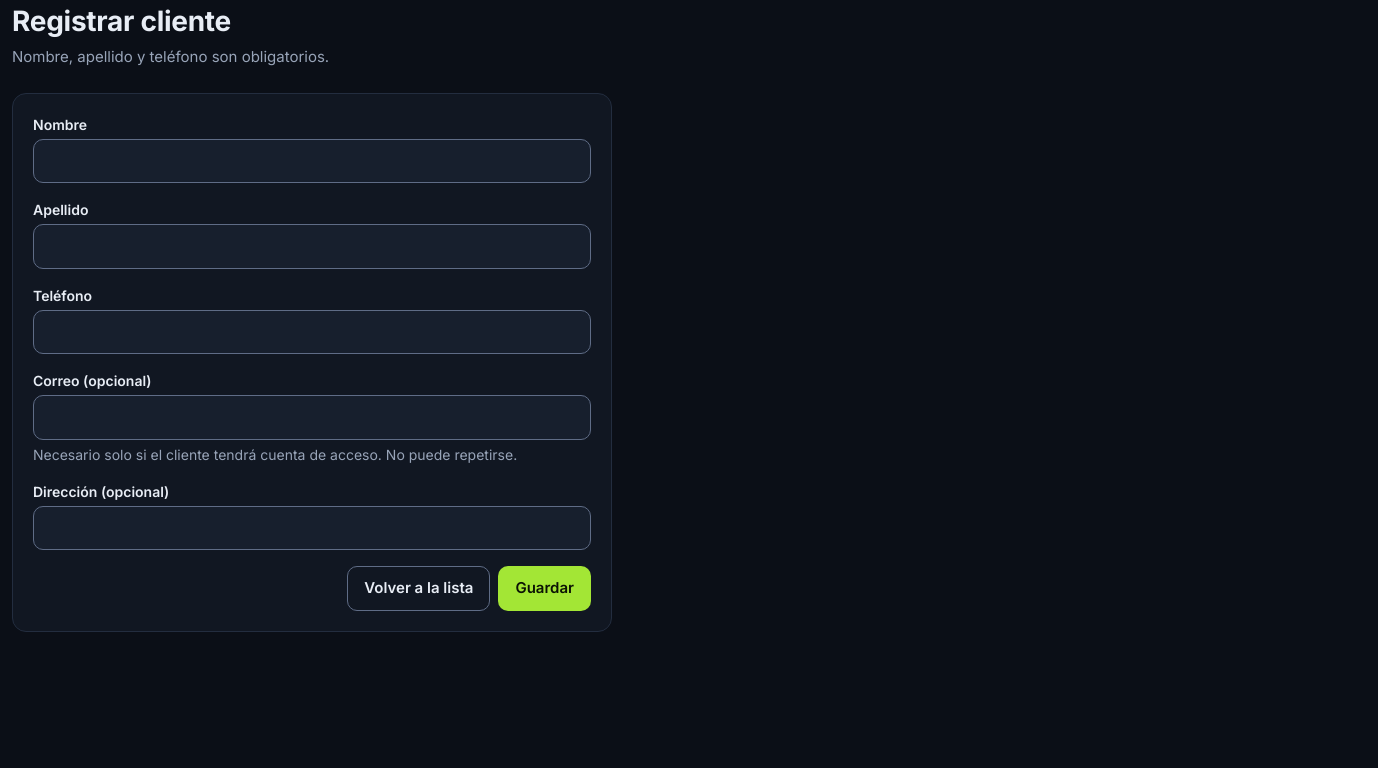
ClienteForm › al registrar envía solo los datos capturados, avisa el éxito y limpia el formulario
Type "Clara" into the field labelled "Nombre" at (312, 161), box left=33, top=138, right=591, bottom=183
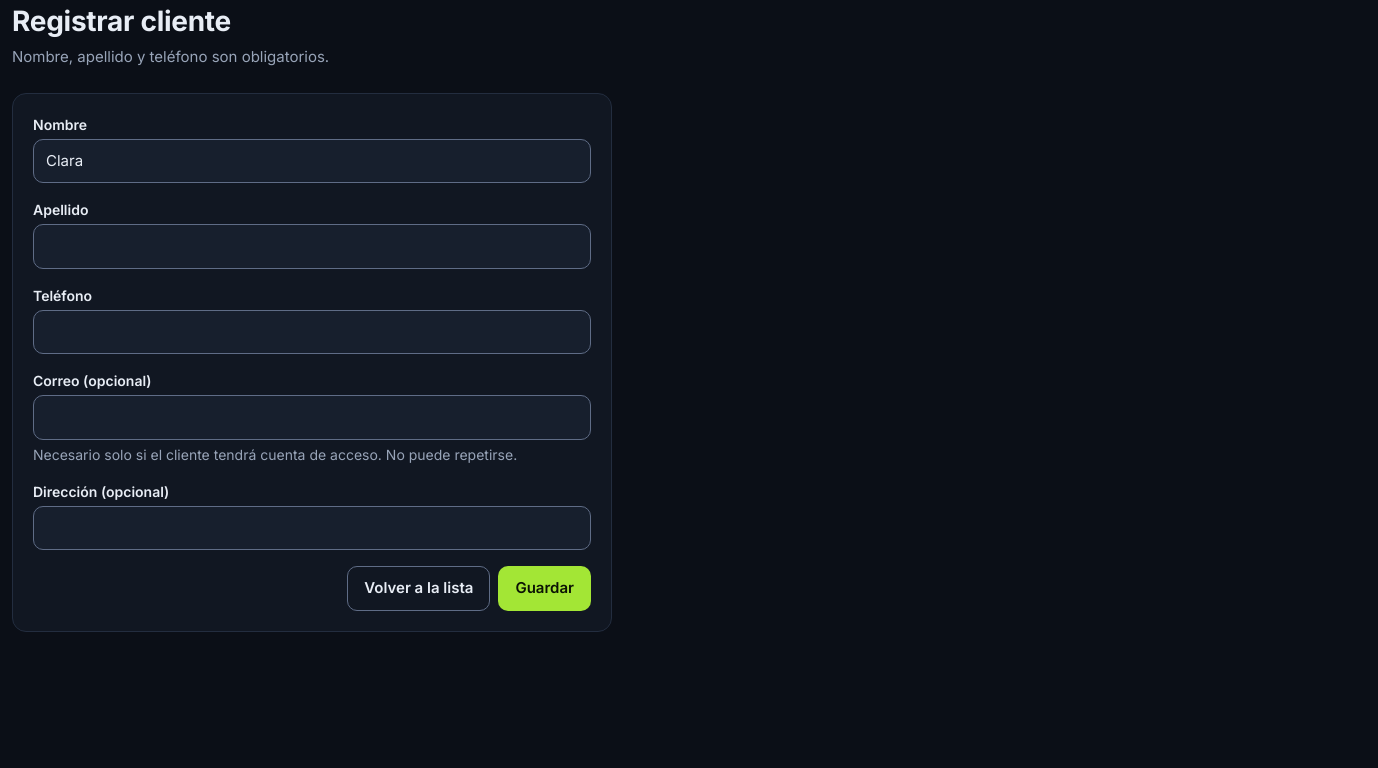
Type "Prueba" into the field labelled "Apellido" at (312, 246), box left=33, top=224, right=591, bottom=268
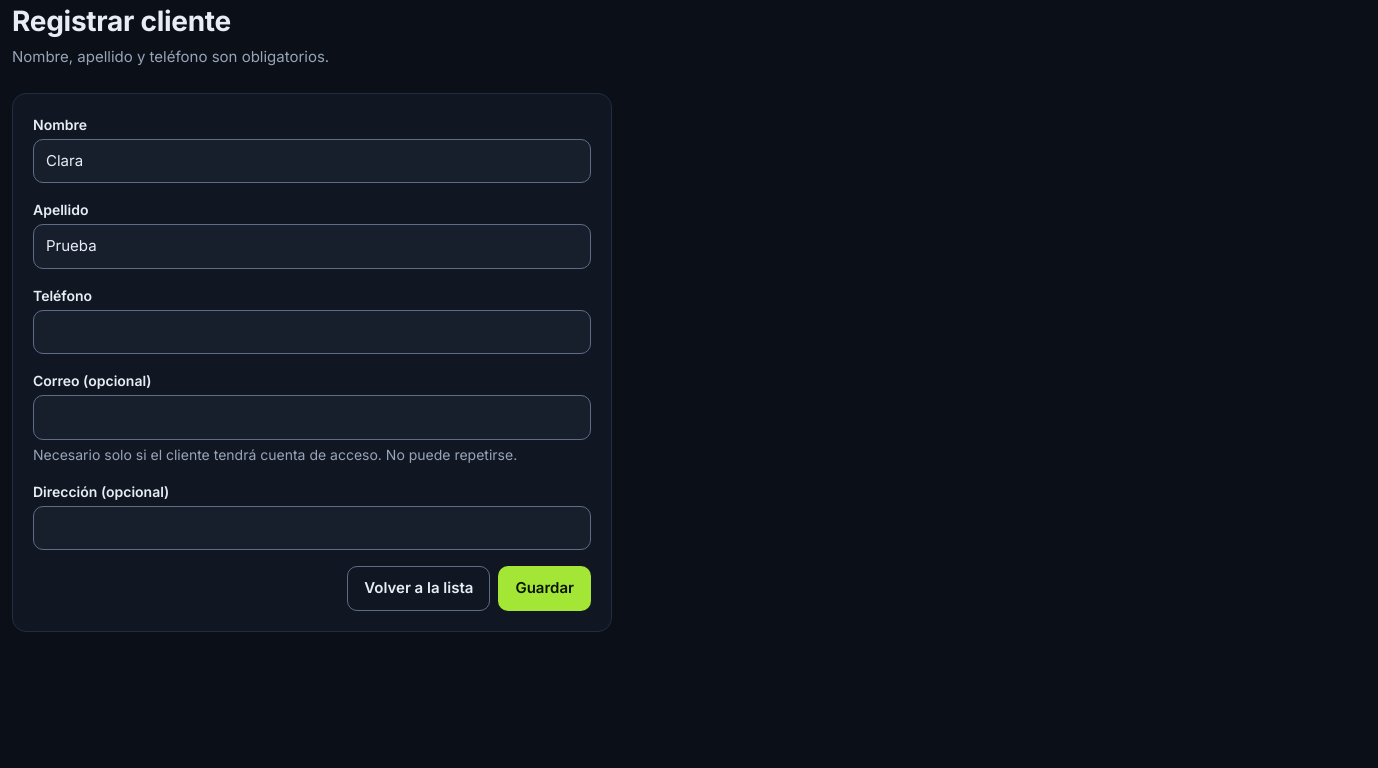
Type "555 123 4567" into the field labelled "Teléfono" at (312, 332), box left=33, top=310, right=591, bottom=354
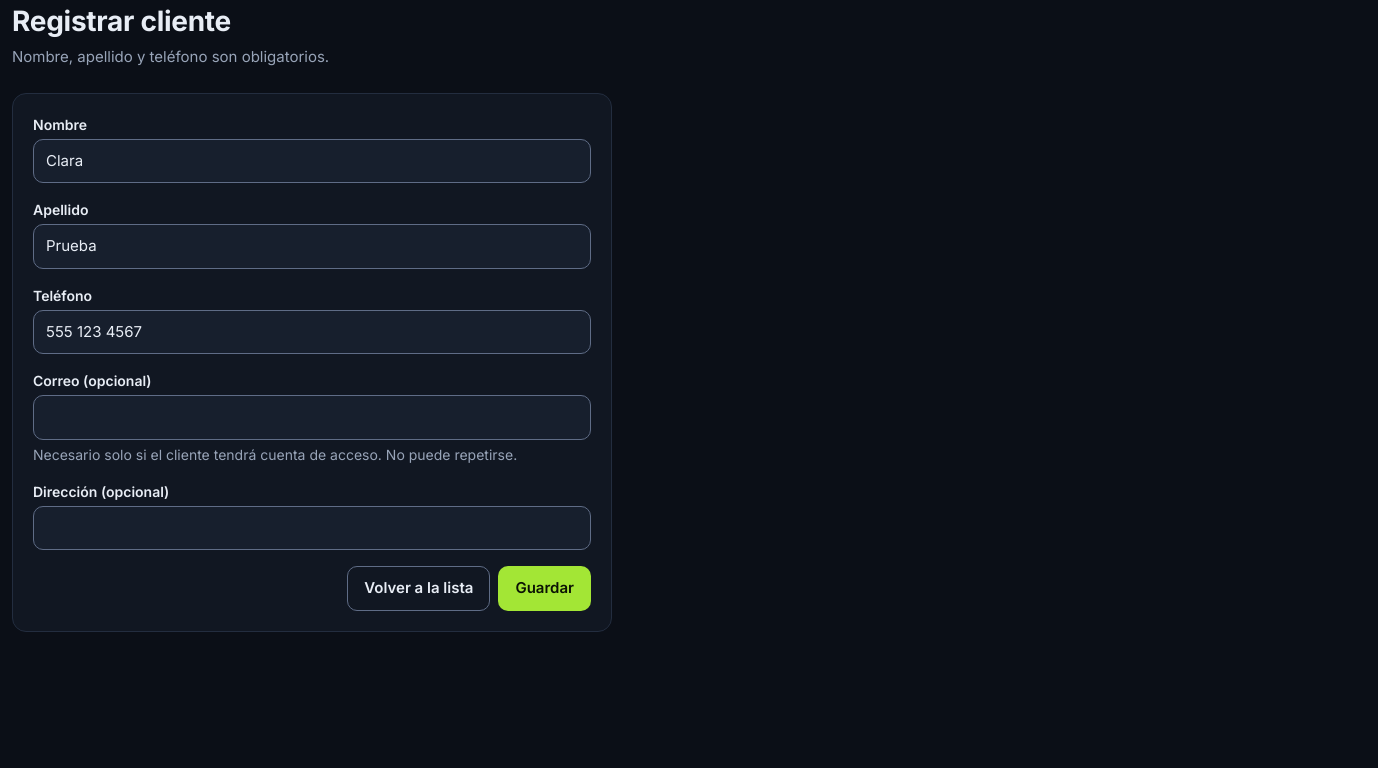
Click the button "Guardar" at (545, 588), box left=498, top=566, right=591, bottom=610
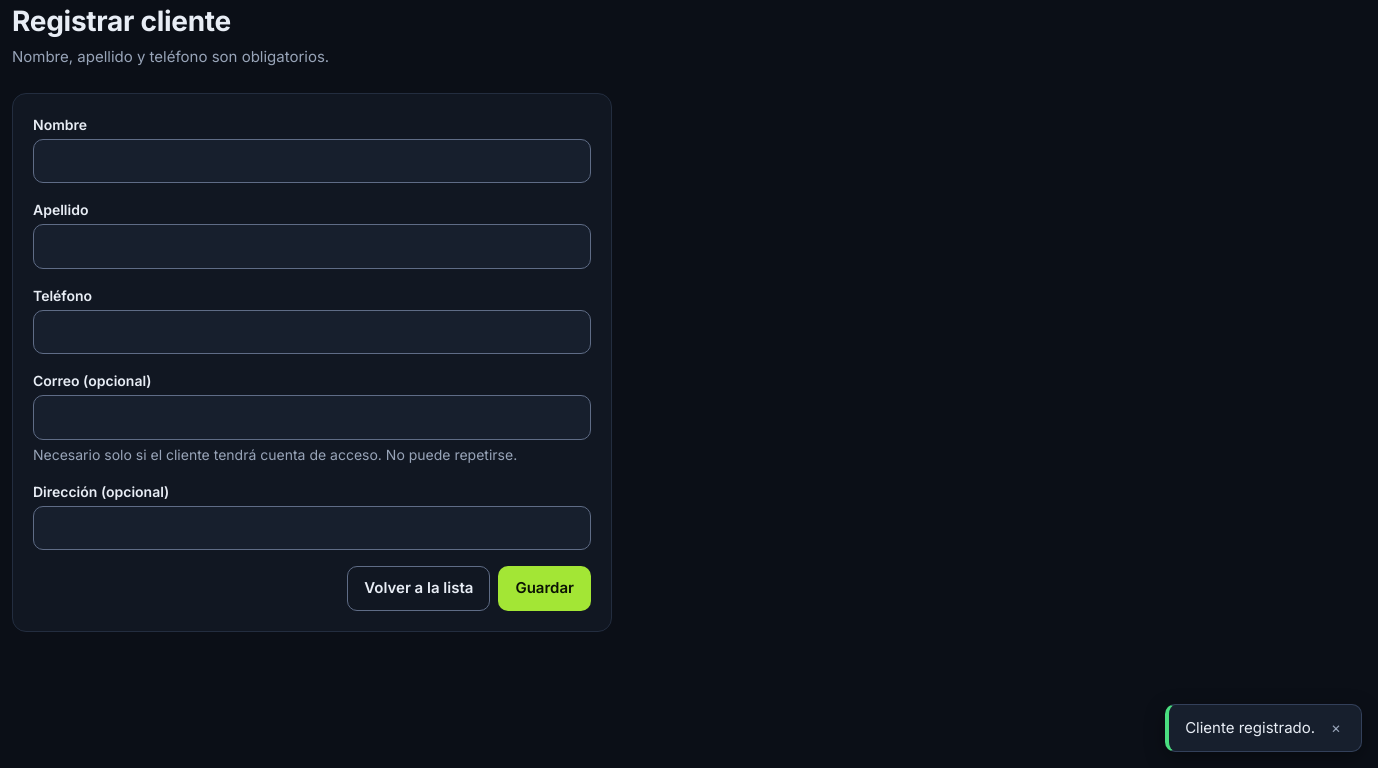
Result: the text "Cliente registrado." is shown at left=1185, top=716, right=1315, bottom=739
Result: the field labelled "Nombre" is empty at left=33, top=138, right=591, bottom=183
